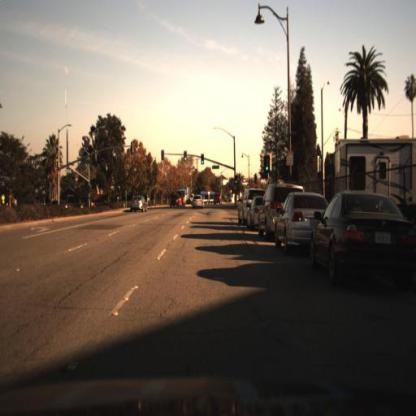car: (310, 192, 414, 293), (274, 191, 329, 255), (258, 182, 306, 247), (274, 189, 318, 259), (259, 181, 277, 240), (235, 188, 254, 228), (248, 192, 264, 237), (49, 195, 76, 216), (130, 195, 147, 216), (131, 196, 148, 217), (190, 193, 204, 213), (170, 192, 182, 211), (213, 194, 227, 209)
trafficLight: (161, 148, 167, 164)
trafficLight-Green: (263, 153, 271, 177), (234, 172, 242, 192), (200, 150, 208, 167), (183, 149, 189, 166), (265, 164, 272, 177), (183, 156, 189, 166), (201, 157, 206, 169), (235, 178, 240, 190)
truck: (179, 187, 190, 203)
